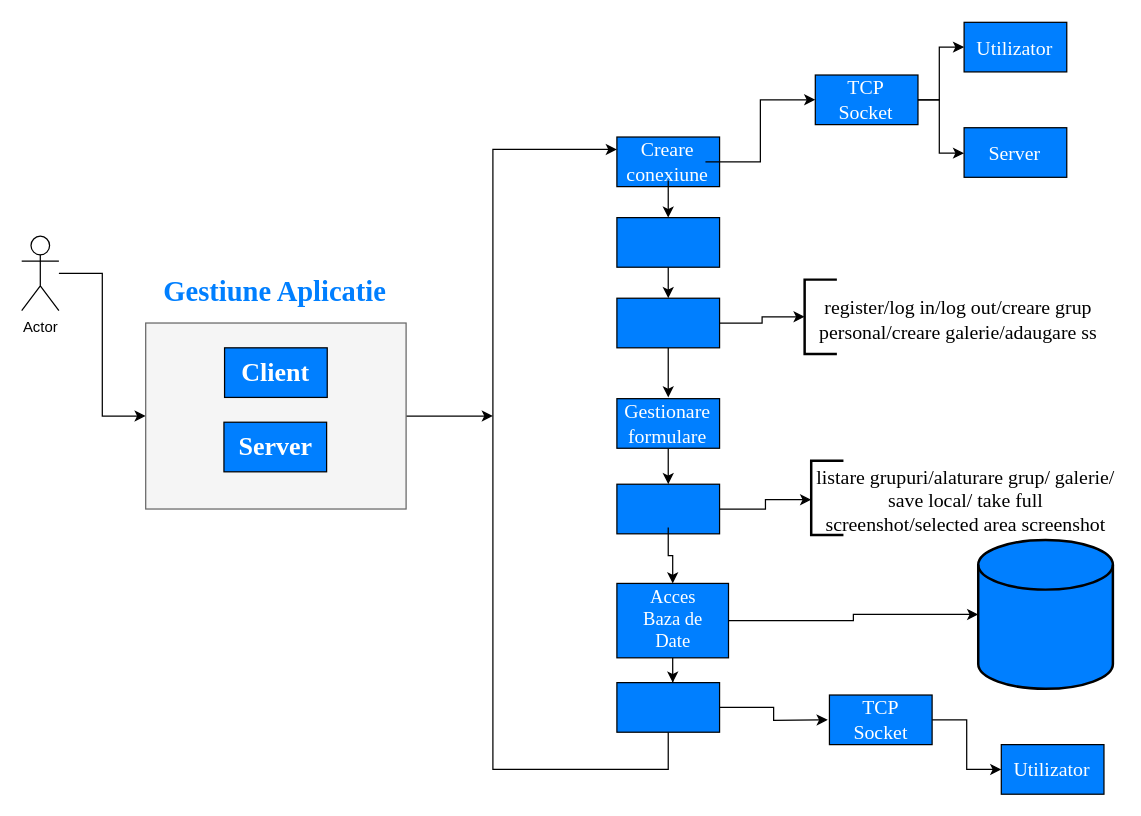
This 1141x816 diagram has some shape labels left out. Each missing label, with the centre of its shape:
"Creare formular" belongs at point (668, 322).
"Creare Ordin" belongs at point (668, 508).
"Receive" belongs at point (668, 241).
"Send" belongs at point (668, 706).
"Snipping Tool Database" belongs at point (1045, 613).
